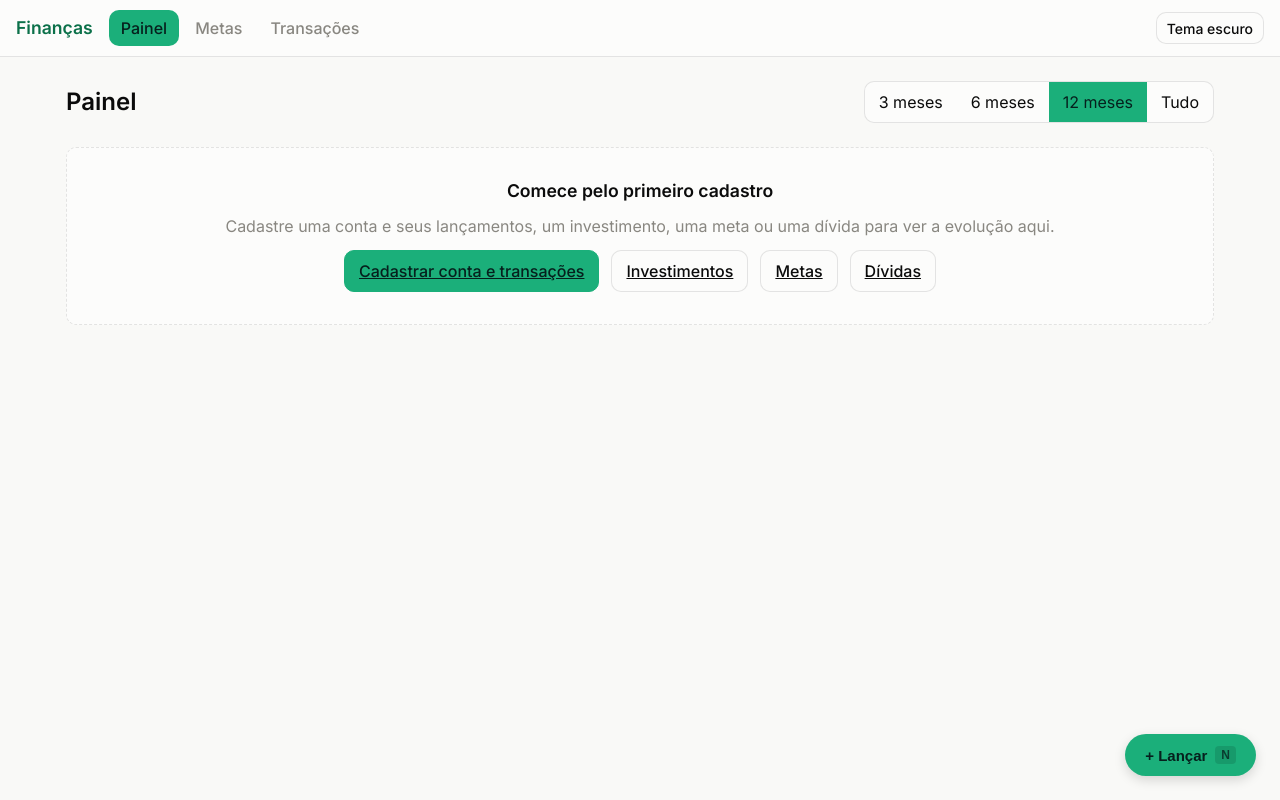
App › opens quick capture modal when clicking FAB or pressing N key
The image size is (1280, 800).
Click the button with aria-label "Adicionar lançamento rápido" at (1191, 755), box [1125,734,1256,776]
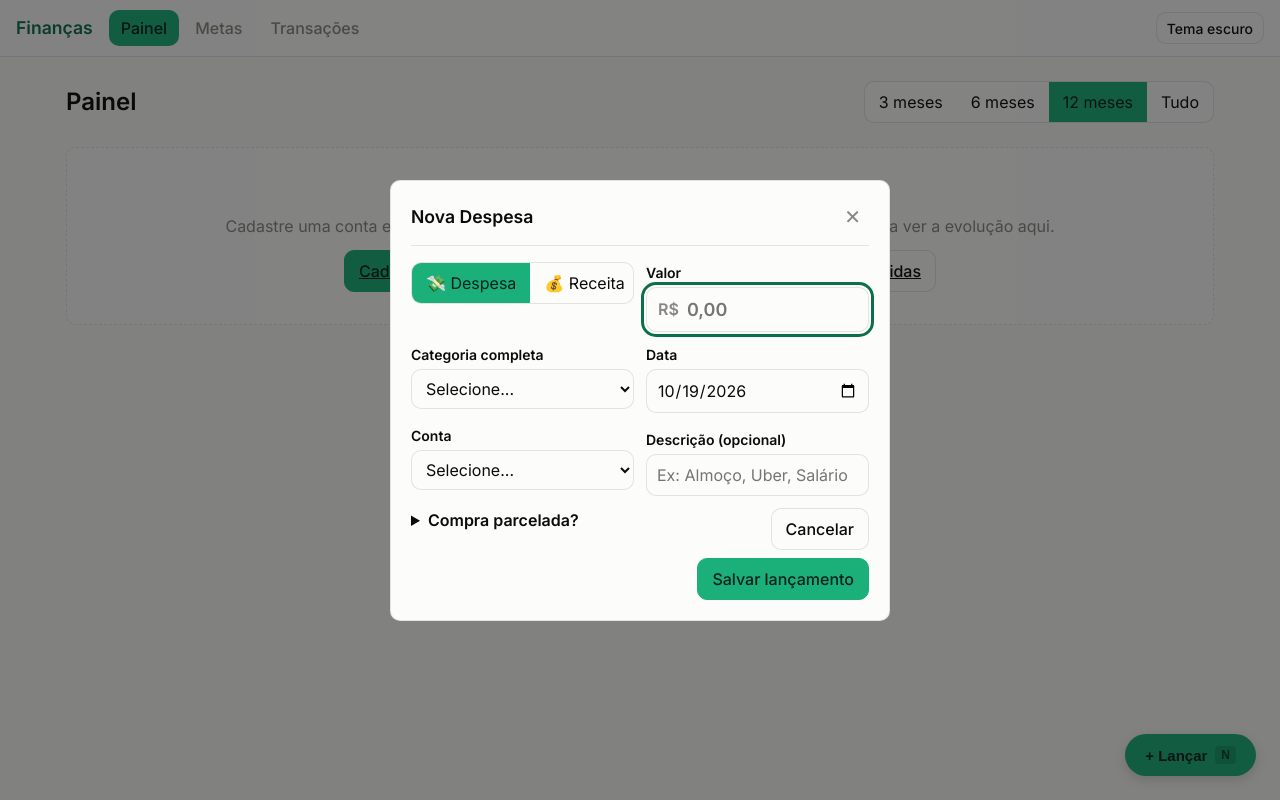
Result: the dialog "Nova Despesa" is shown at [390,180,890,620]
Press Escape
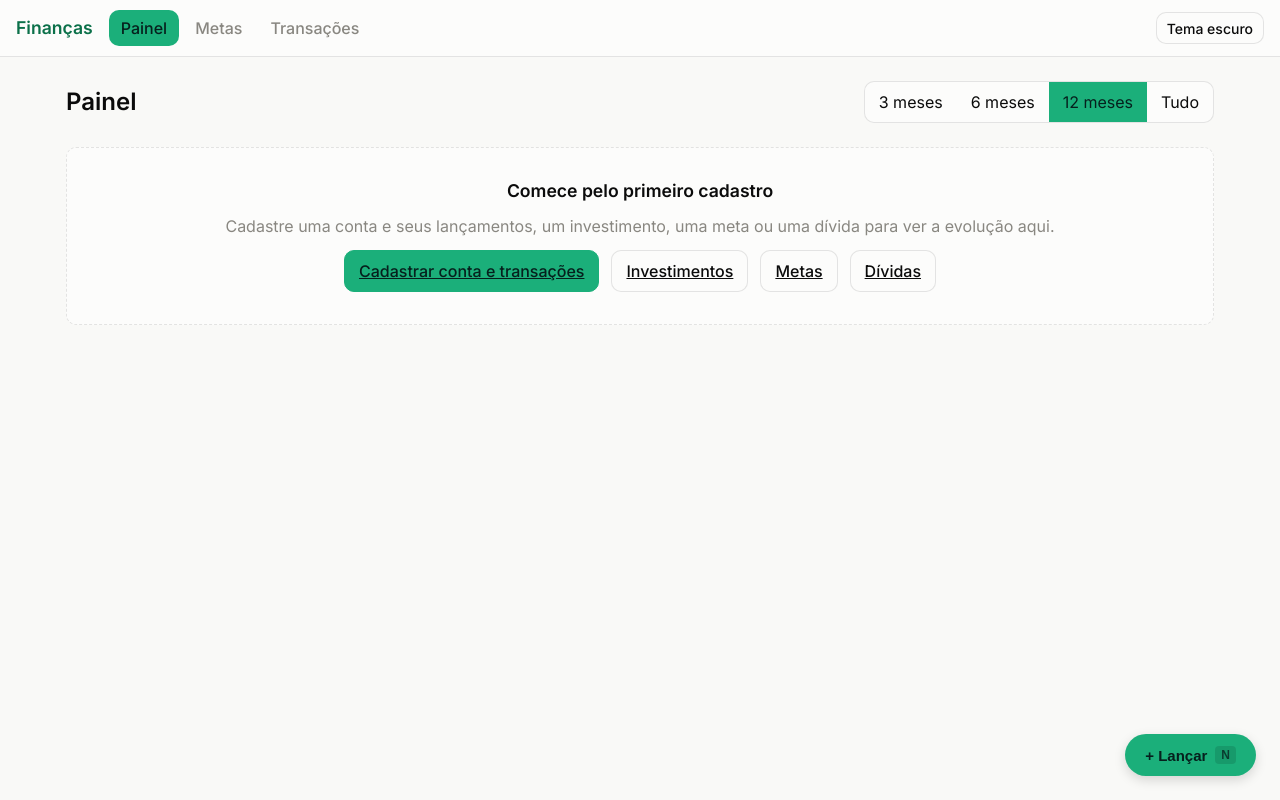
Type keys "n"
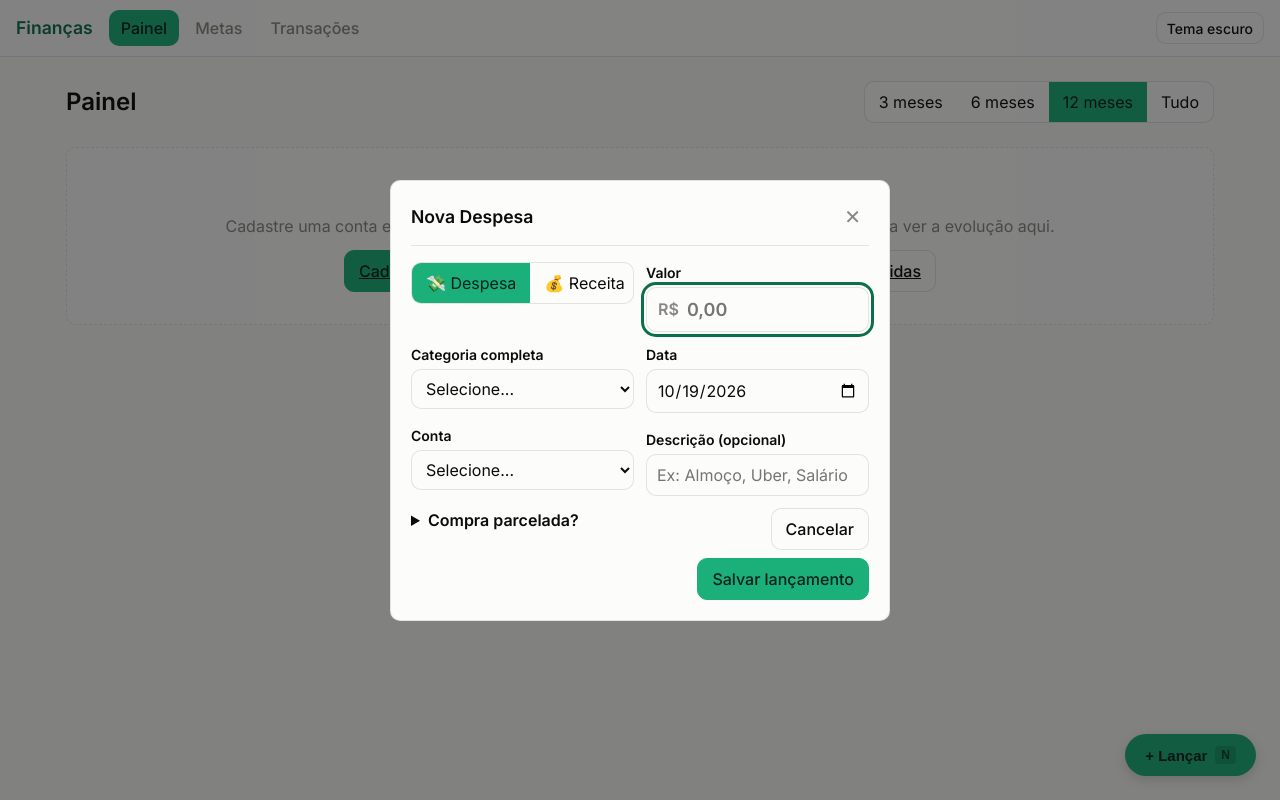
Result: the dialog "Nova Despesa" is shown at [390,180,890,620]
